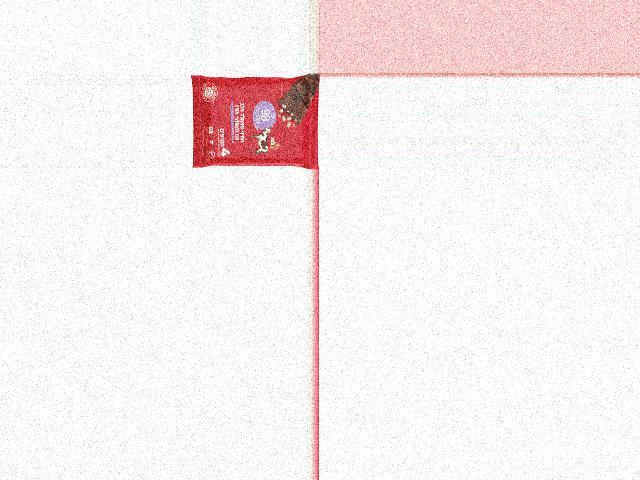chocolate: (190, 77, 318, 169)
